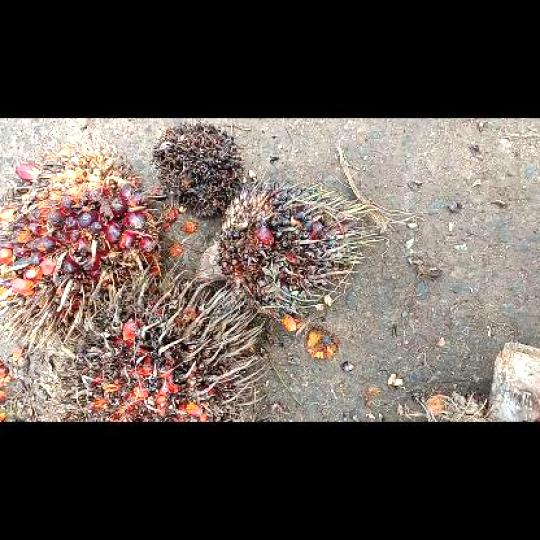masak: (1, 142, 181, 342)
terlalu masak: (49, 261, 262, 419)
